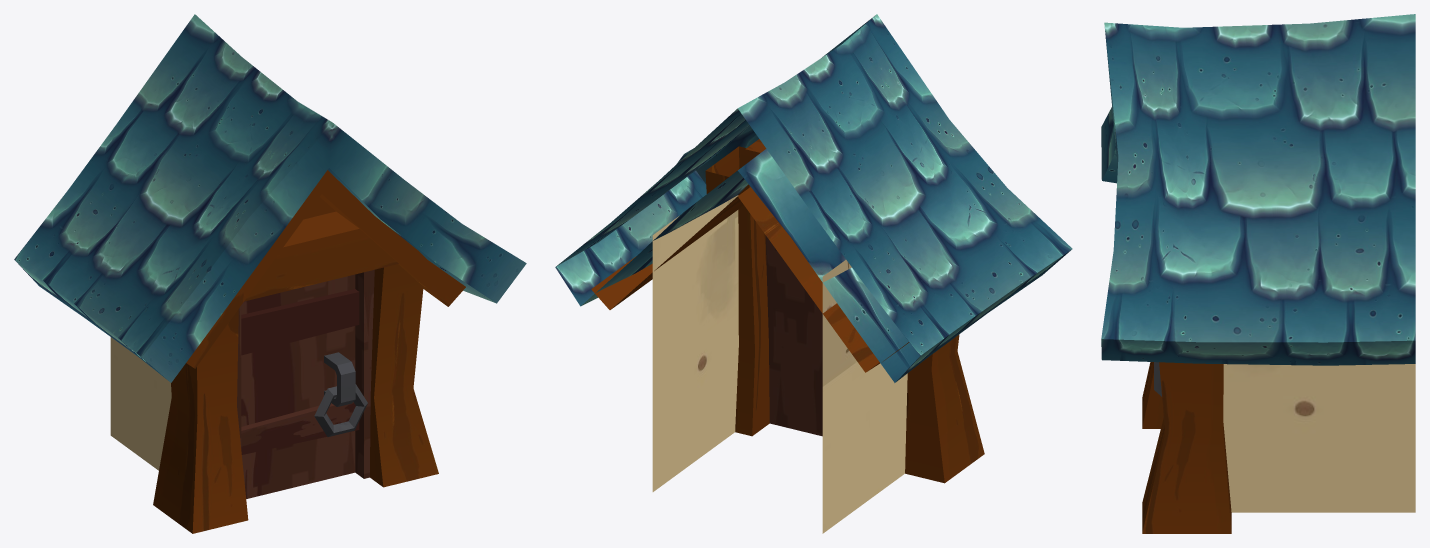
File: SM_BLD_door_v01_01.glb
3 views of the same model, side by side, from view 1: azimuth 30°, elevation 25°; view 2: azimuth 150°, elevation 25°; view 3: azimuth 270°, elevation 25° (orthographic). The views are drawn at different scales.
Visible parts, largest first — view 1: SM_BLD_door_v01_01_EXPORT; view 2: SM_BLD_door_v01_01_EXPORT; view 3: SM_BLD_door_v01_01_EXPORT.
Part boxes in pixels (<box>): SM_BLD_door_v01_01_EXPORT: <box>14,14,526,533</box>; SM_BLD_door_v01_01_EXPORT: <box>555,14,1072,533</box>; SM_BLD_door_v01_01_EXPORT: <box>1101,14,1415,533</box>.
Bounding box in the file's own units: 3.21 × 3.19 × 2.01.
Materials: 5 (5 with a texture image).
